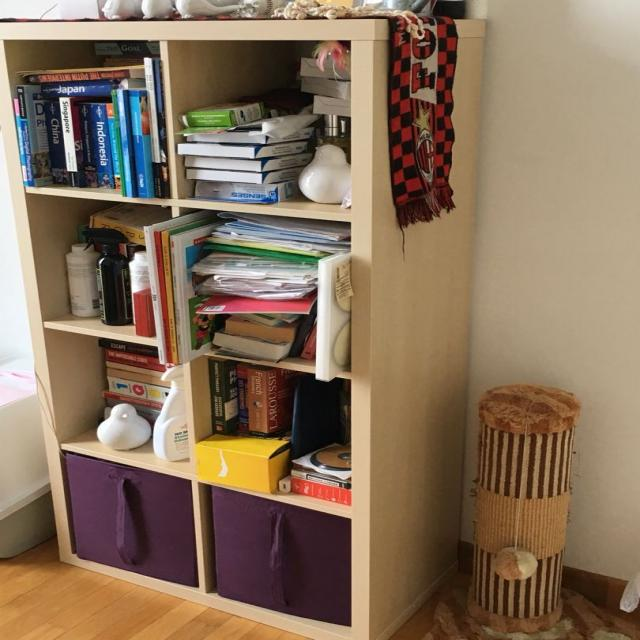Shelf: (0, 13, 505, 640)
